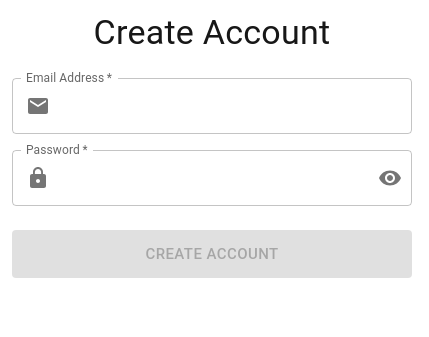
Scenario: EmailAuthForm Accessibility › Form Validation Accessibility › should provide accessible password strength feedback
Type "password123" into the password field with test id "password-input". click: (210, 178)
box: [58,150,362,206]
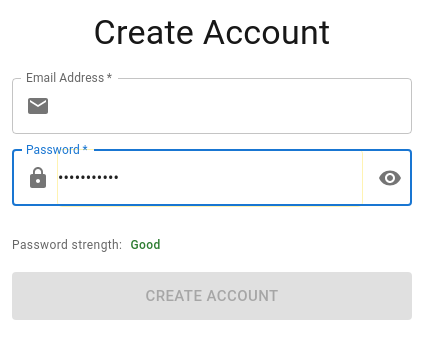
Now the text "Good" is shown, box [130,238,161,252]
